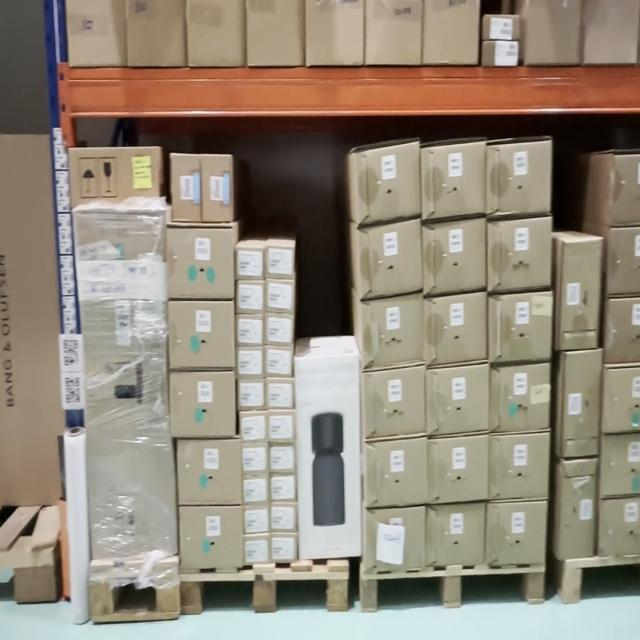box: (79, 208, 178, 561), (297, 359, 363, 559), (353, 143, 418, 224), (360, 217, 424, 295), (69, 147, 161, 199), (170, 229, 233, 297), (172, 370, 234, 438), (170, 304, 234, 368), (365, 440, 425, 504), (489, 224, 548, 289), (491, 298, 551, 361), (178, 444, 241, 504), (492, 146, 549, 212), (422, 154, 486, 212), (492, 368, 550, 431), (493, 437, 549, 502), (425, 230, 485, 290), (183, 509, 243, 569), (429, 443, 486, 504), (428, 297, 484, 359), (366, 371, 423, 431), (363, 304, 420, 362), (564, 245, 597, 345), (428, 372, 486, 428), (565, 357, 598, 454), (488, 506, 544, 562), (562, 463, 594, 556), (430, 506, 482, 562), (368, 513, 424, 564), (204, 158, 230, 223), (174, 156, 198, 220), (266, 313, 292, 346), (239, 414, 269, 442), (235, 282, 262, 312), (268, 248, 293, 280), (265, 282, 293, 310), (238, 314, 263, 344), (238, 347, 263, 377), (266, 348, 293, 375), (239, 381, 265, 409), (270, 444, 295, 473), (245, 535, 270, 563), (272, 503, 296, 532), (270, 412, 294, 440), (272, 534, 296, 562), (268, 382, 294, 407), (239, 248, 262, 276), (243, 446, 267, 471), (244, 475, 268, 500), (244, 509, 269, 531), (272, 475, 294, 499)
